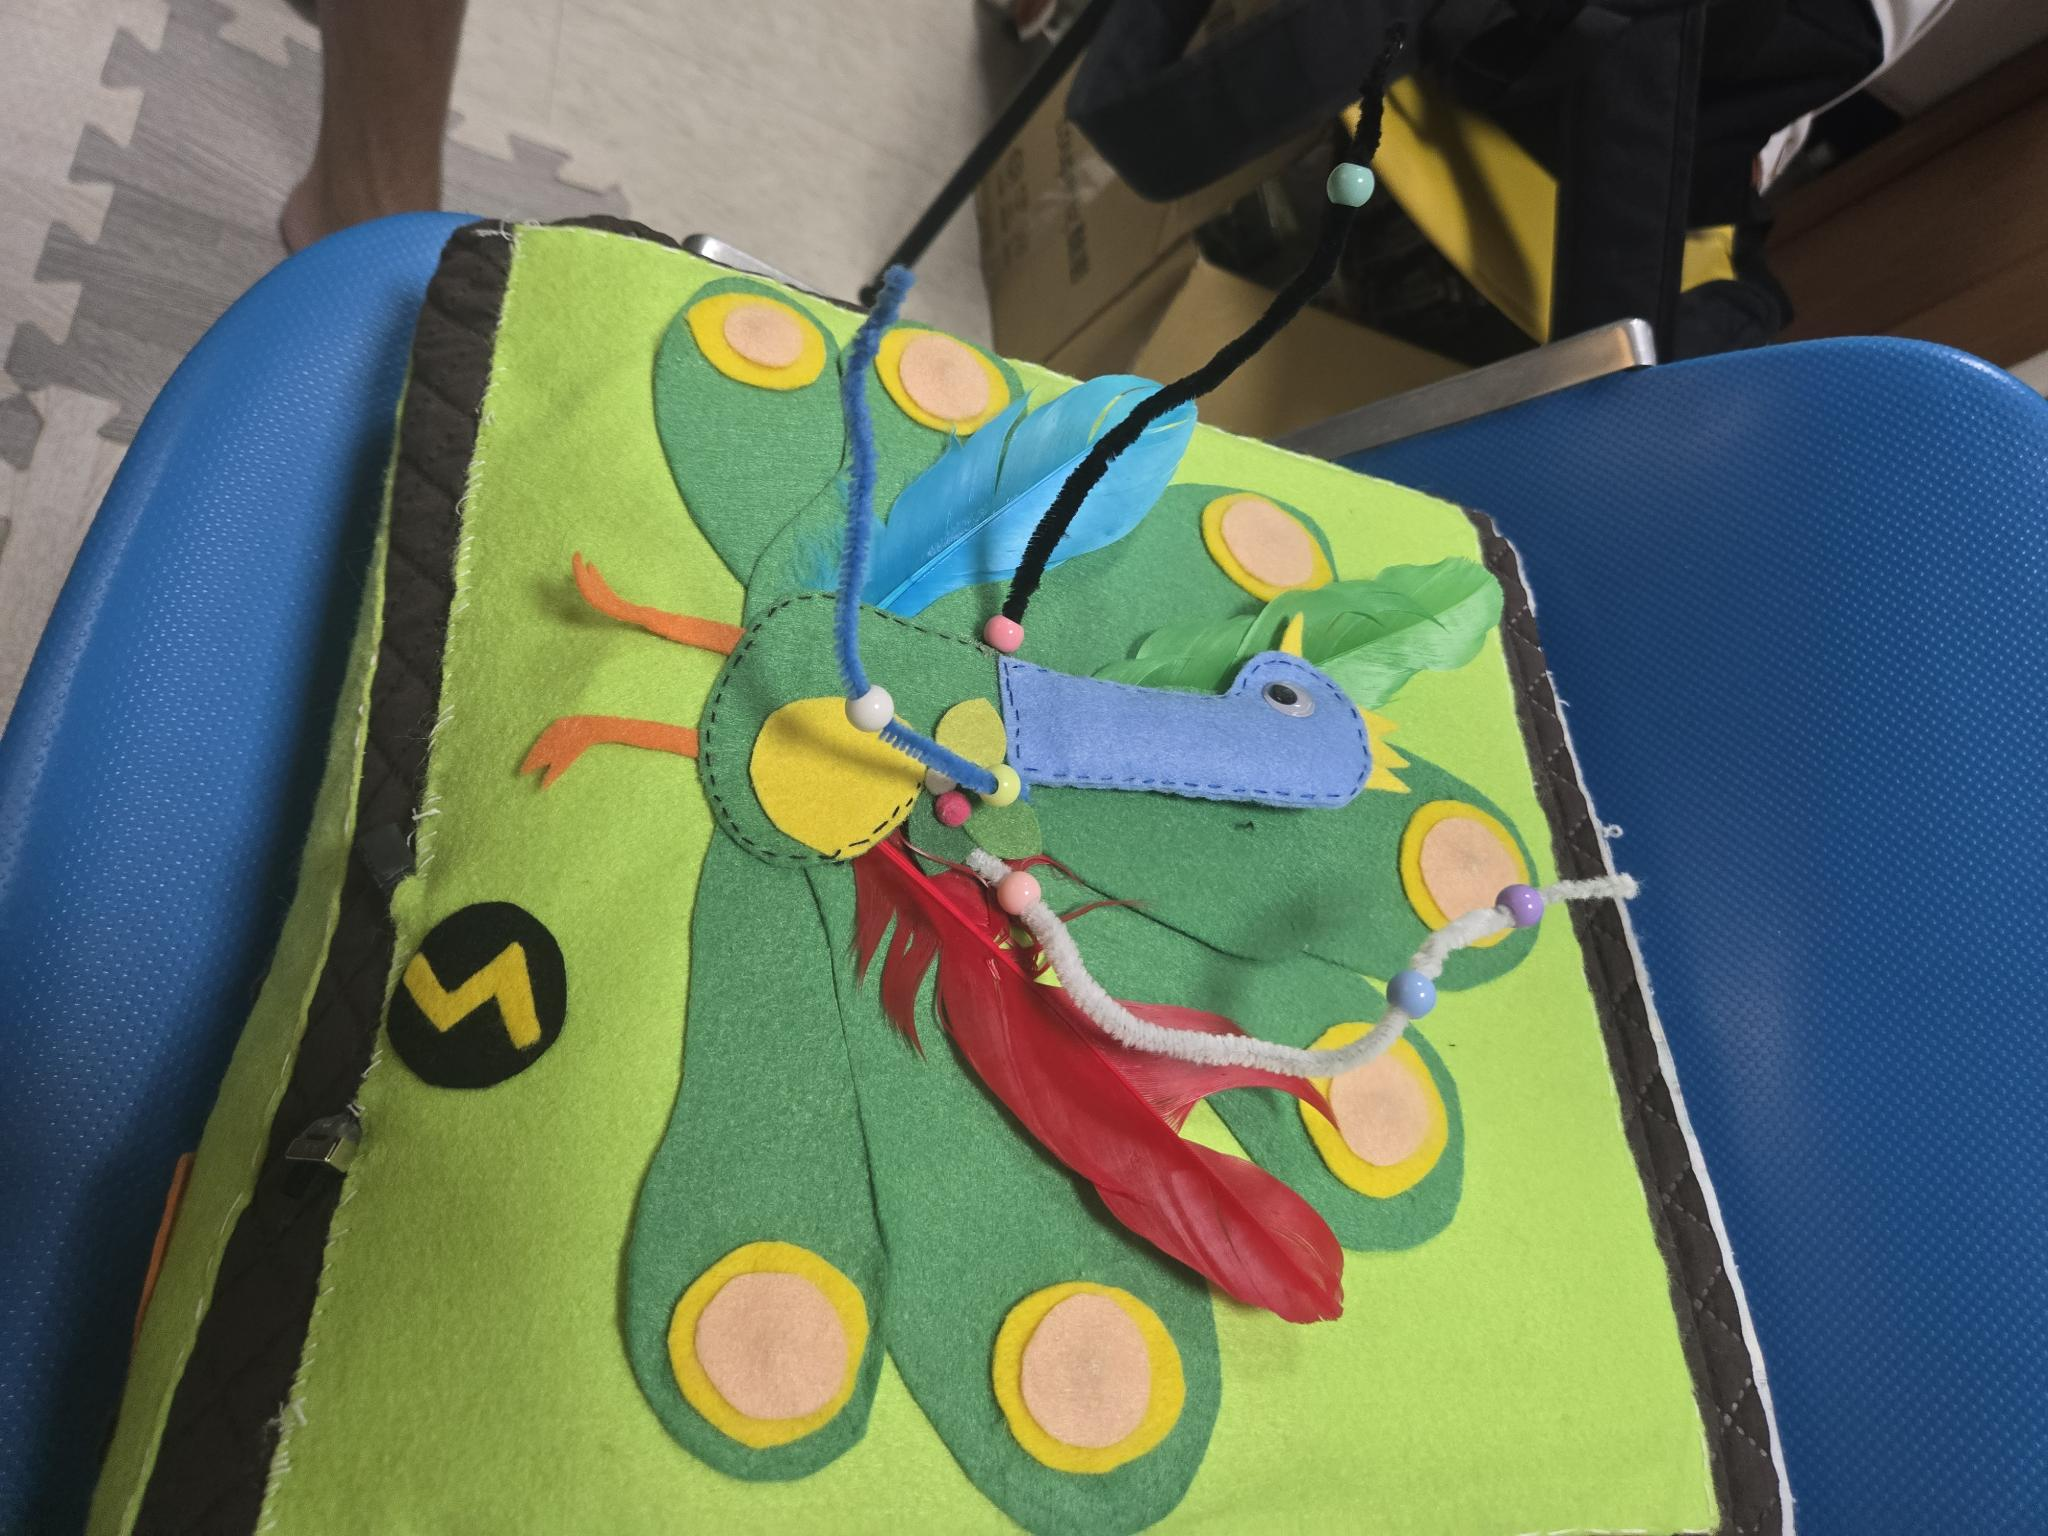bead: (1324, 160, 1380, 213), (997, 858, 1043, 918), (972, 608, 1029, 655), (848, 692, 906, 733), (1495, 886, 1548, 926), (1393, 968, 1435, 1016), (990, 760, 1019, 810)
